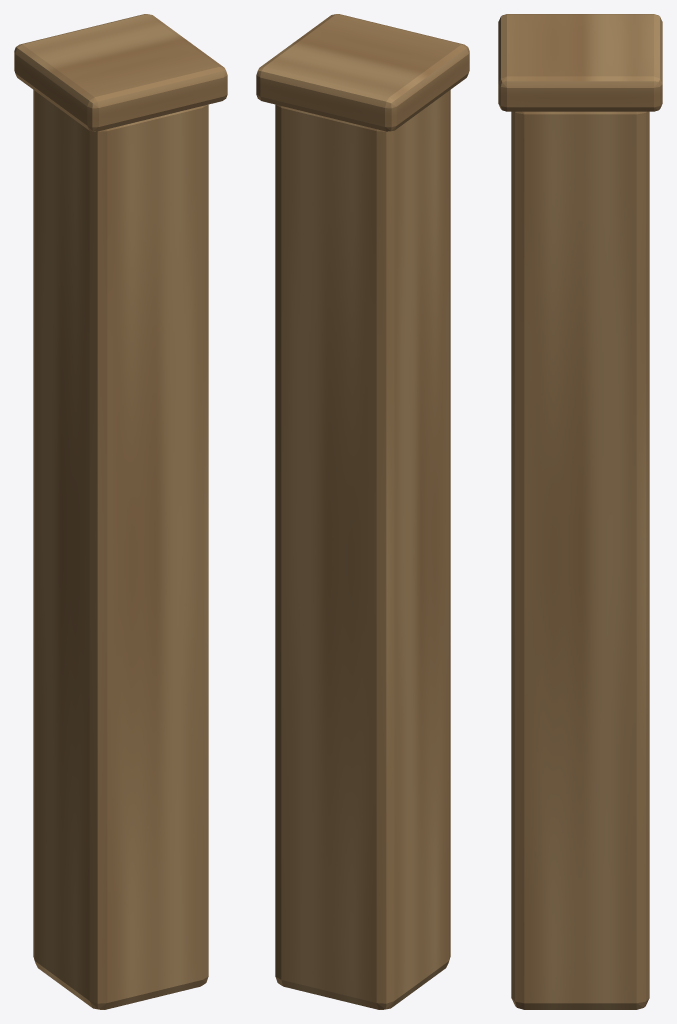
The model's file is fence_post.glb.
3 renders of one model, left to right at view 1: azimuth 30°, elevation 25°; view 2: azimuth 150°, elevation 25°; view 3: azimuth 270°, elevation 25°, orthographic.
Visible parts, largest first — view 1: post.011, post_cap.007; view 2: post.011, post_cap.007; view 3: post.011, post_cap.007.
Boxes of the visible parts, <box> form: post.011: <box>33,90,208,1009</box>; post_cap.007: <box>14,14,227,131</box>; post.011: <box>275,90,450,1009</box>; post_cap.007: <box>256,14,469,131</box>; post.011: <box>511,111,649,1009</box>; post_cap.007: <box>498,14,662,111</box>.
Size of the model in its own units: 0.19 by 1.2 by 0.19.
2 materials, 2 textured.
